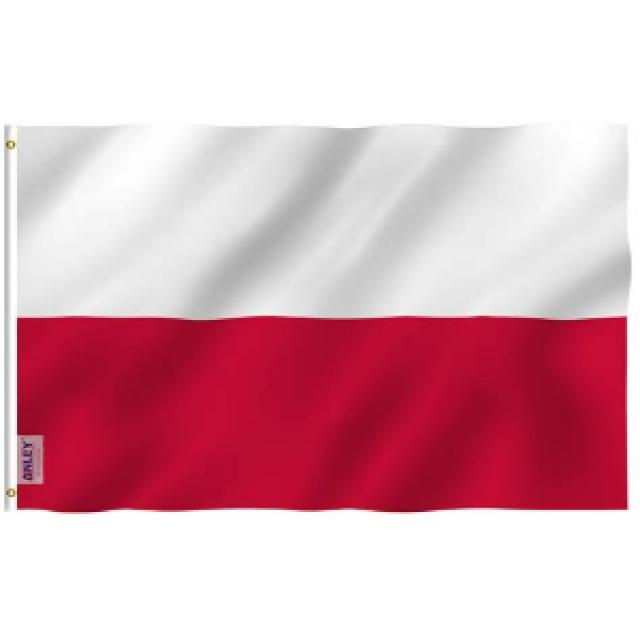poland: (2, 120, 629, 519)
